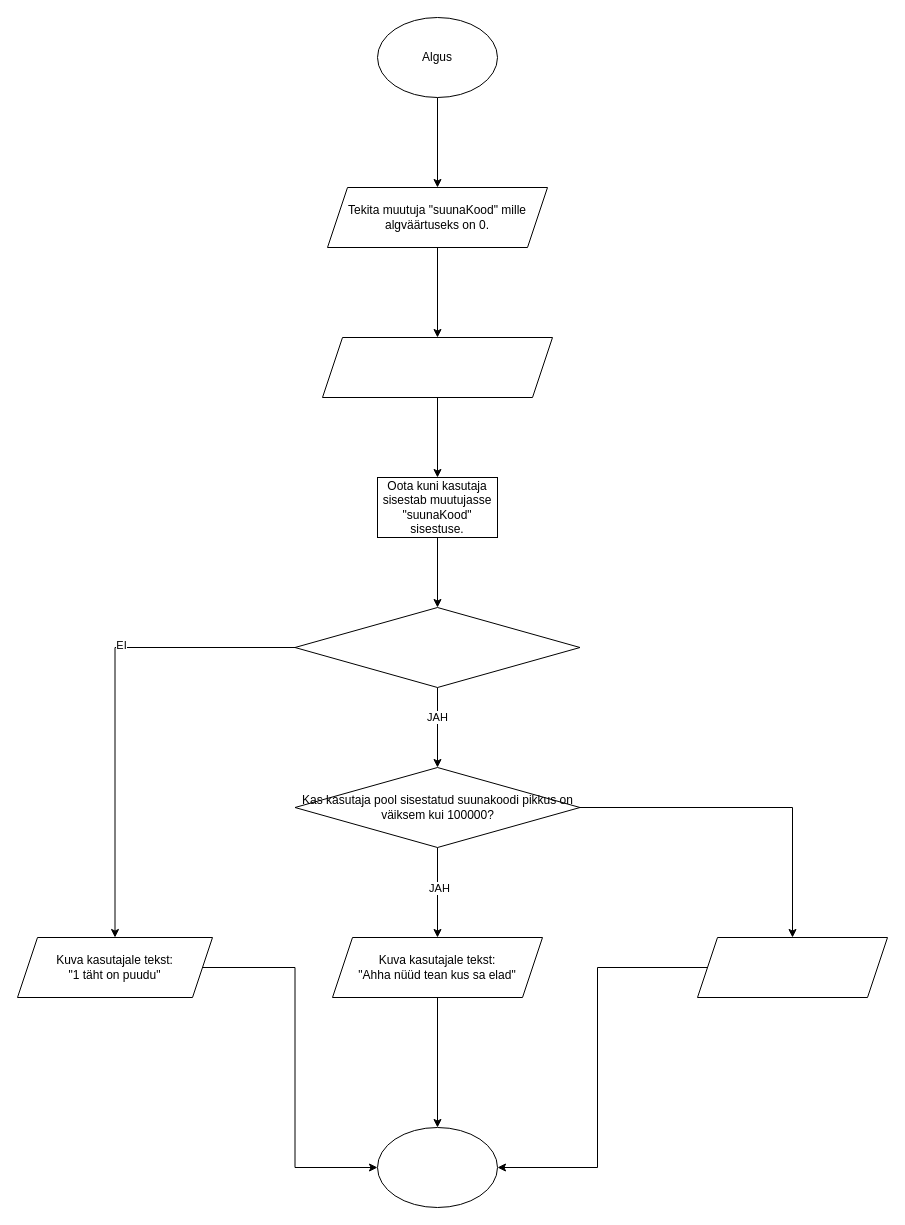
Some shapes in this 905 by 1225 pixel diagram are drawn without their labels. The centre of each missing label's shape, as x and y in pixels:
Kas kasutaja pool sisestatud suunakoodi pikkus on suurem kui 9999?: the point at 437,647
Kuva kasutajale tekst: "1 täht on üle": the point at 792,967
Kuva kasutajale tekst: "Palun sisesta oma suunakood": the point at 437,367
